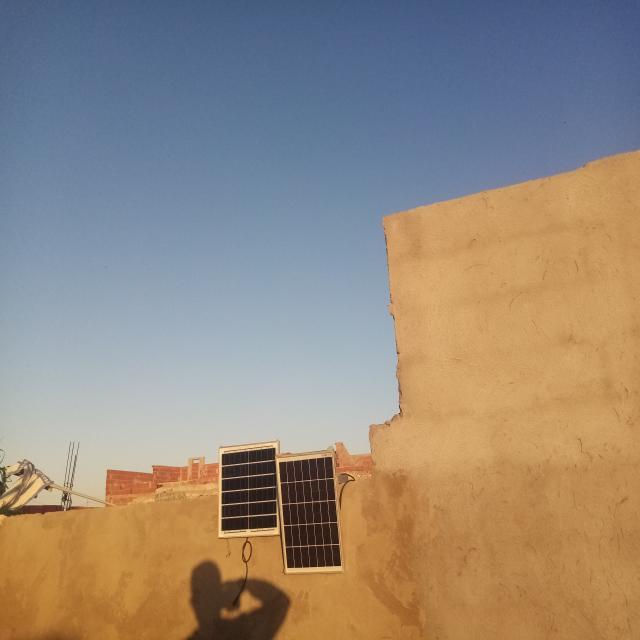no faulty: (276, 451, 344, 574), (218, 441, 279, 539)
